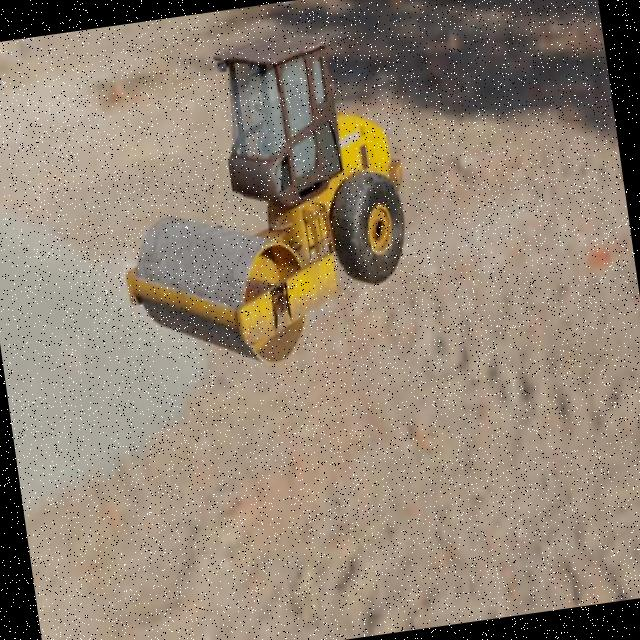Roller: (94, 18, 426, 384)
